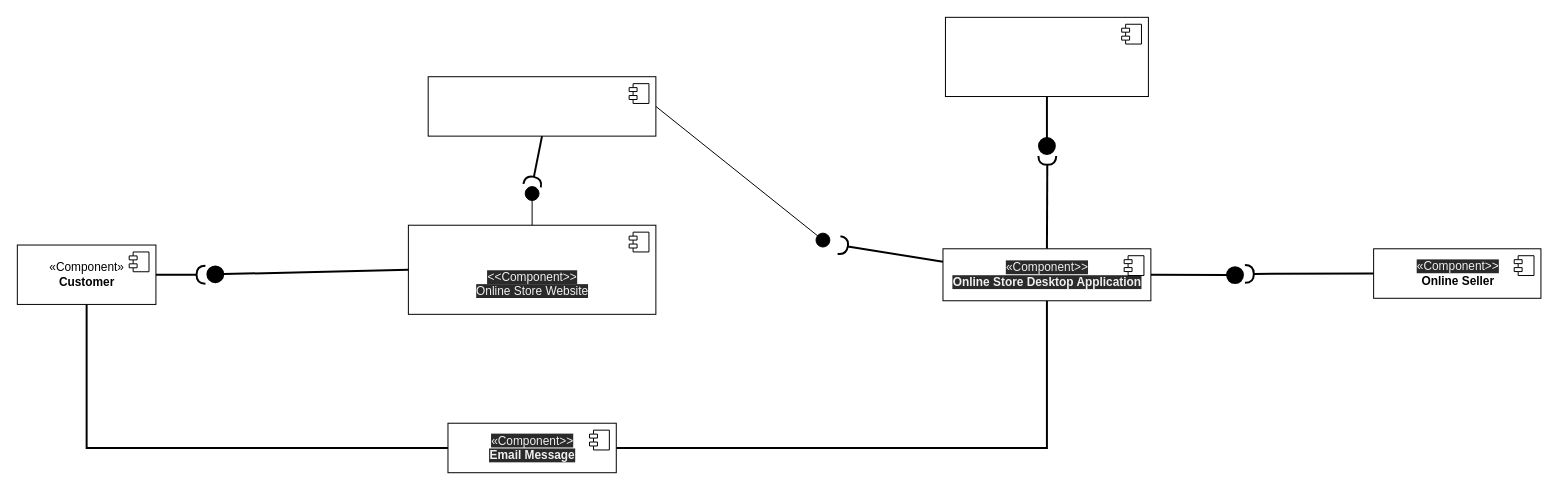
The diagram is 1558 pixels wide and 490 high, and some of its shapes have lost their labels. Here are the shapes that lost their labels. From the top down, the centre of each, then its label:
At point 1046,56: "«Component» SQL Lite 3 Database".
At point 541,106: "<<Component>> Online Store API".
